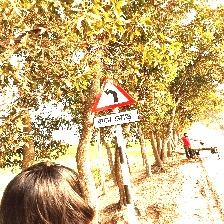Left-Turn: (90, 78, 139, 129)
